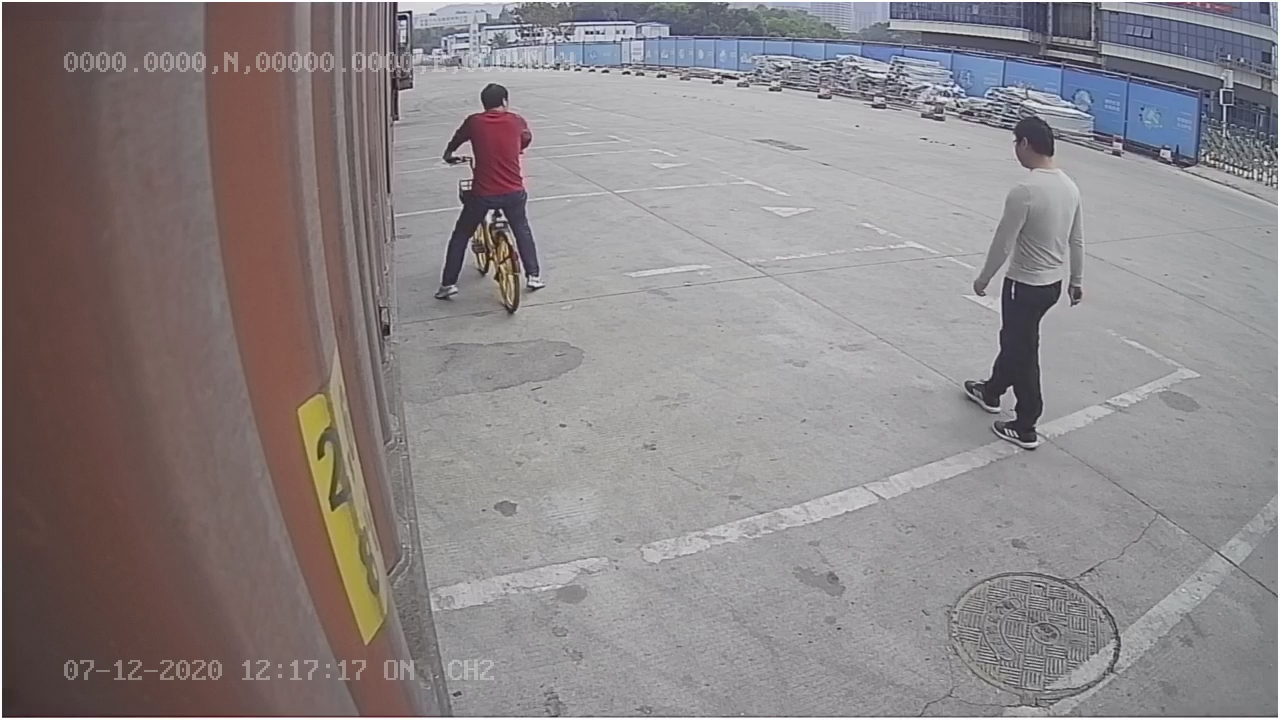person: (959, 112, 1092, 456)
